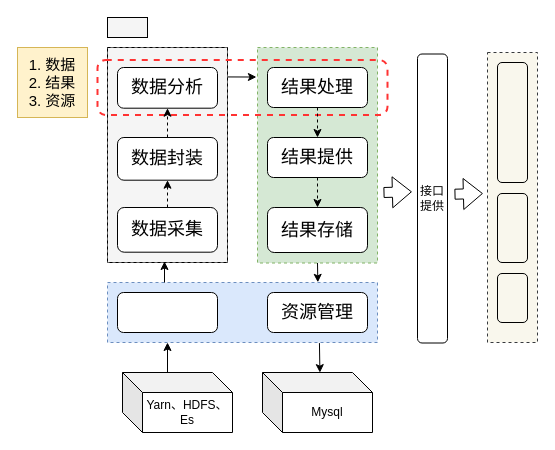
The diagram is 555 pixels wide and 450 high, and some of its shapes have lost their labels. Each missing label, with the box of its shape:
Core: (106, 16, 148, 38)
其他: (496, 272, 528, 322)
对外用户: (496, 192, 528, 262)
界面: (496, 62, 528, 182)
资源获取: (116, 292, 218, 332)
